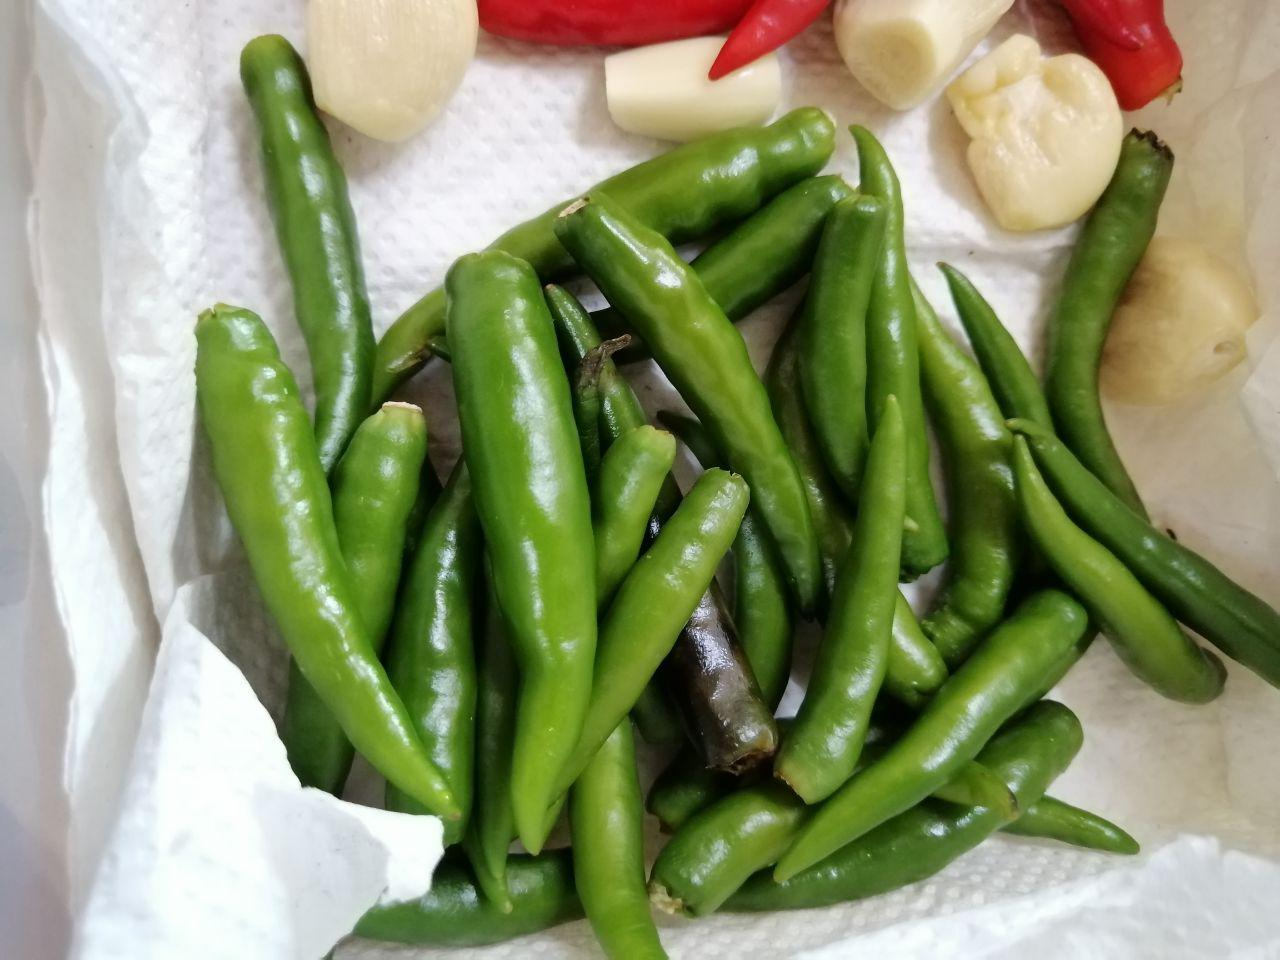lada hijau: (175, 299, 484, 846), (541, 184, 858, 617), (372, 96, 849, 383), (488, 450, 766, 909), (433, 243, 612, 872), (780, 564, 1105, 886), (221, 24, 402, 472), (1008, 406, 1280, 694), (1035, 122, 1191, 539), (783, 400, 938, 805), (1003, 434, 1221, 721), (837, 114, 946, 571)
